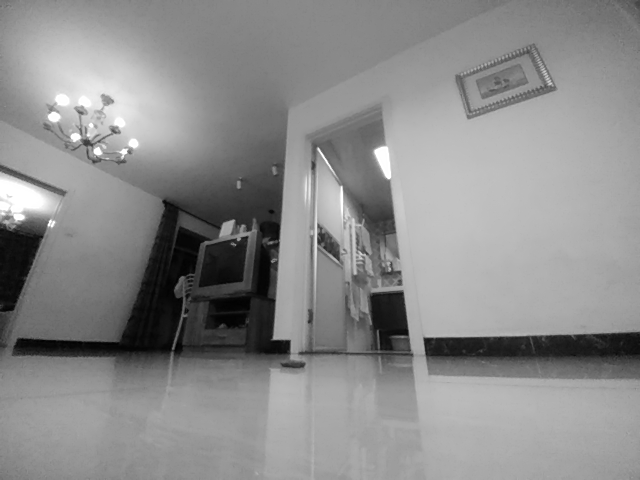curtain: (118, 198, 180, 353)
pet feces: (279, 359, 307, 371)
